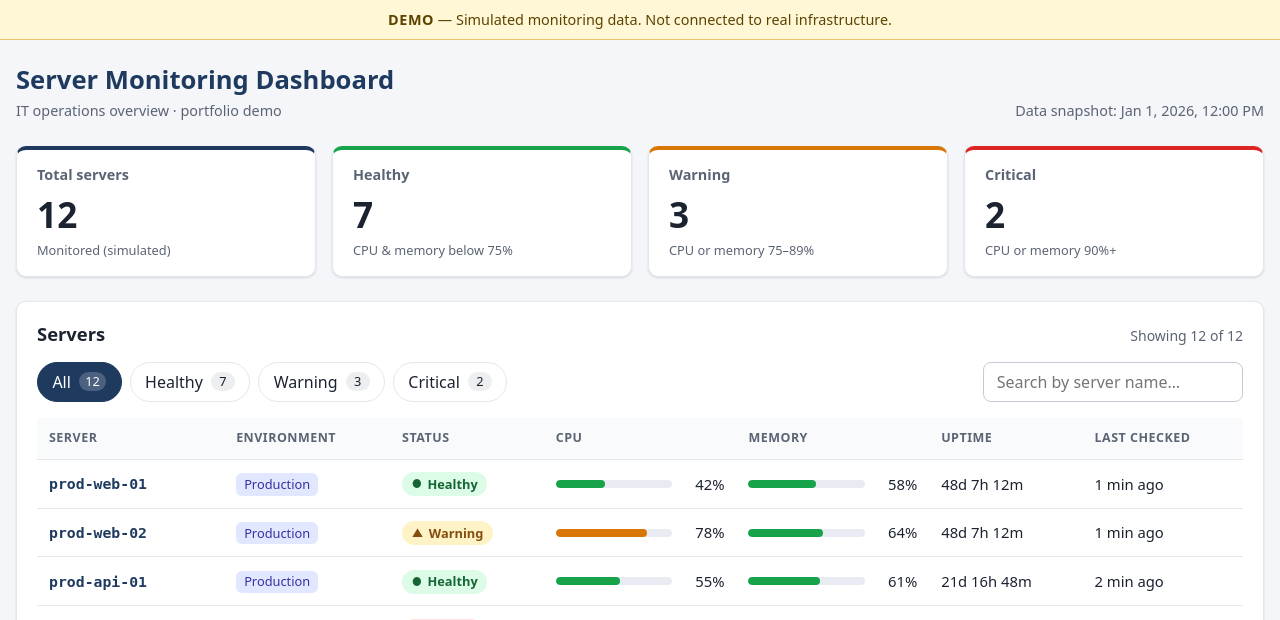
Test: App › shows a message when nothing matches
Type "does-not-exist" into the search field. click: coordinates (1113, 382)
box: [983,362,1243,402]
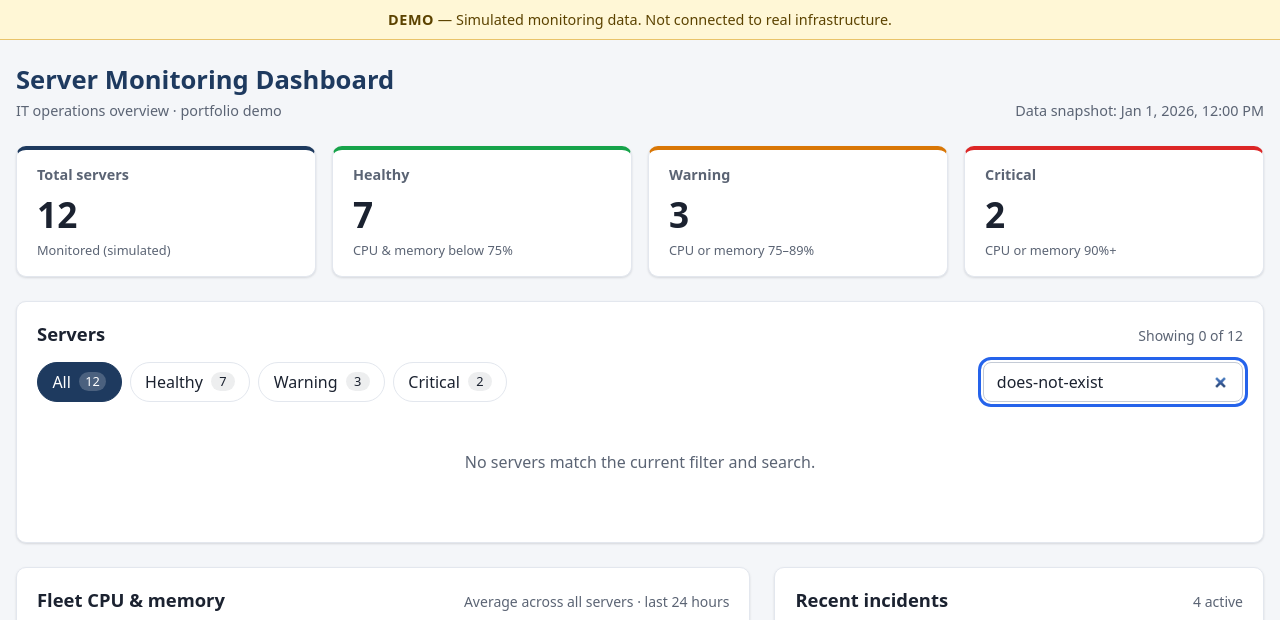
Now the text "No servers match the current filter and search." is shown, box [465,451,815,473]
